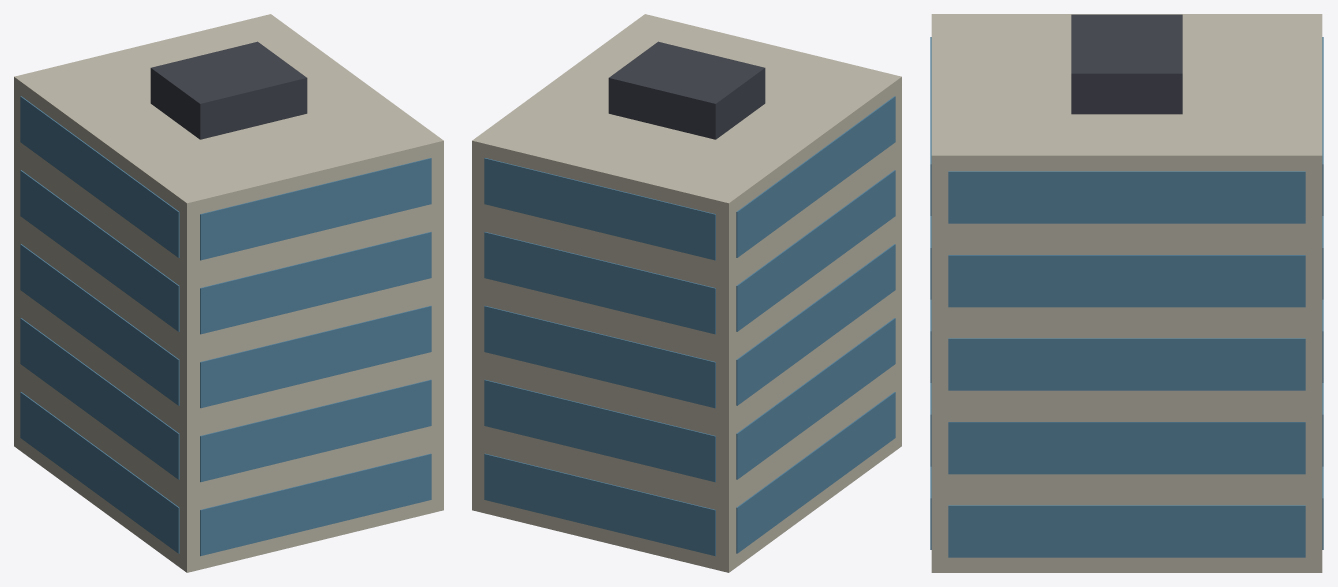
Rendered from highrise_a.obj.
The picture shows the model from 3 angles, left to right: view 1: azimuth 30°, elevation 25°; view 2: azimuth 150°, elevation 25°; view 3: azimuth 270°, elevation 25°; orthographic projection. The views are drawn at different scales.
Parts seen in each view (by area): view 1: Cube; view 2: Cube; view 3: Cube.
Boxes of the visible parts, <box> form: Cube: <box>14,14,443,572</box>; Cube: <box>472,14,901,572</box>; Cube: <box>930,14,1323,572</box>.
Bounding box in the file's own units: 12.1 × 18.1 × 14.1.
